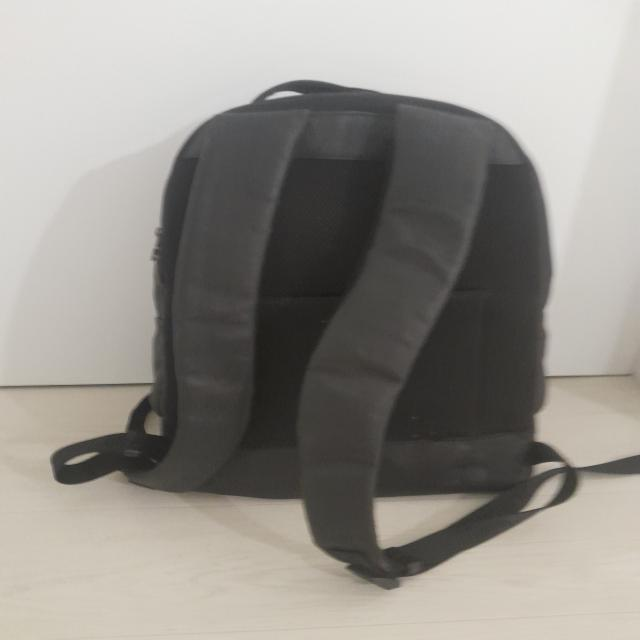backpack: (53, 80, 640, 589)
